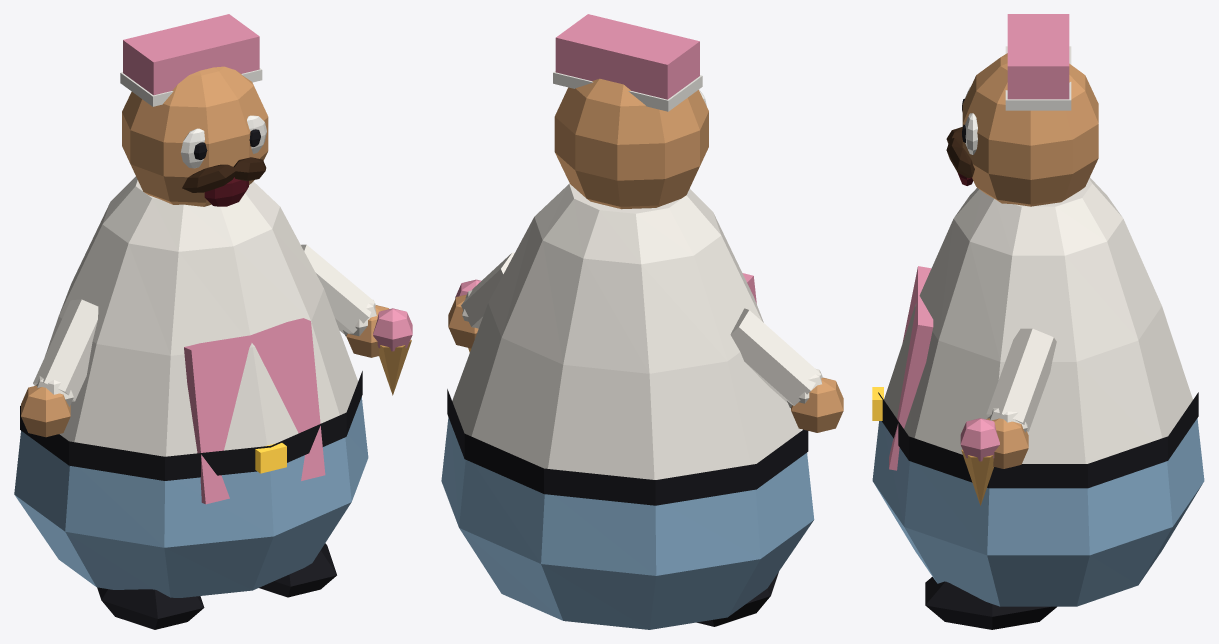
The model's file is npc_heladero.glb.
3 renders of one model, left to right at view 1: azimuth 30°, elevation 25°; view 2: azimuth 150°, elevation 25°; view 3: azimuth 270°, elevation 25°, orthographic. The views are drawn at different scales.
Visible parts, largest first — view 1: body_ice_jacket, body_ice_pants, head_skin_arena, body_ice_pink, cap_ice_pink, body_black, arms_ice_jacket, legs_black, arms_skin_arena, face_ice_mustache, props_ice_pink, face_white (+4 smaller); view 2: body_ice_jacket, body_ice_pants, head_skin_arena, body_black, cap_ice_pink, arms_ice_jacket, arms_skin_arena, cap_white, legs_black; view 3: body_ice_jacket, body_ice_pants, head_skin_arena, body_black, cap_ice_pink, arms_ice_jacket, legs_black, body_ice_pink, arms_skin_arena, props_ice_pink, cap_white, props_ice_cone (+2 smaller).
Boxes of the visible parts, <box> form: body_ice_jacket: <box>45,176,358,456</box>; body_ice_pants: <box>14,397,368,597</box>; head_skin_arena: <box>122,66,268,206</box>; body_ice_pink: <box>184,318,325,504</box>; cap_ice_pink: <box>123,14,259,95</box>; body_black: <box>20,371,362,480</box>; arms_ice_jacket: <box>33,244,376,406</box>; legs_black: <box>97,543,336,629</box>; arms_skin_arena: <box>21,305,388,437</box>; face_ice_mustache: <box>182,157,266,192</box>; props_ice_pink: <box>373,308,412,351</box>; face_white: <box>181,115,266,168</box>; body_ice_jacket: <box>452,183,800,479</box>; body_ice_pants: <box>441,417,814,629</box>; head_skin_arena: <box>554,78,708,209</box>; body_black: <box>447,389,808,505</box>; cap_ice_pink: <box>555,14,699,99</box>; arms_ice_jacket: <box>461,252,822,407</box>; arms_skin_arena: <box>448,294,843,432</box>; cap_white: <box>553,71,702,111</box>; legs_black: <box>696,572,778,626</box>; body_ice_jacket: <box>884,177,1192,463</box>; body_ice_pants: <box>872,418,1204,606</box>; head_skin_arena: <box>962,53,1098,206</box>; body_black: <box>878,392,1198,488</box>; cap_ice_pink: <box>1007,14,1069,99</box>; arms_ice_jacket: <box>986,328,1056,432</box>; legs_black: <box>925,577,1056,629</box>; body_ice_pink: <box>889,266,933,470</box>; arms_skin_arena: <box>986,418,1028,468</box>; props_ice_pink: <box>960,418,999,461</box>; cap_white: <box>1005,46,1071,110</box>; props_ice_cone: <box>961,449,993,505</box>.
Bounding box in the file's own units: 1.14 × 1.57 × 0.86.
